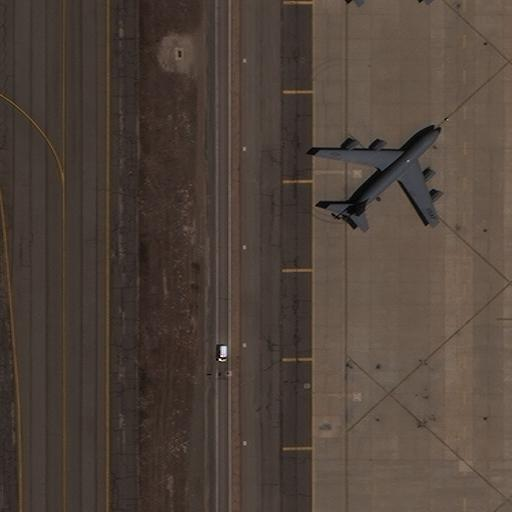Military Transport: (320, 128, 440, 221)
